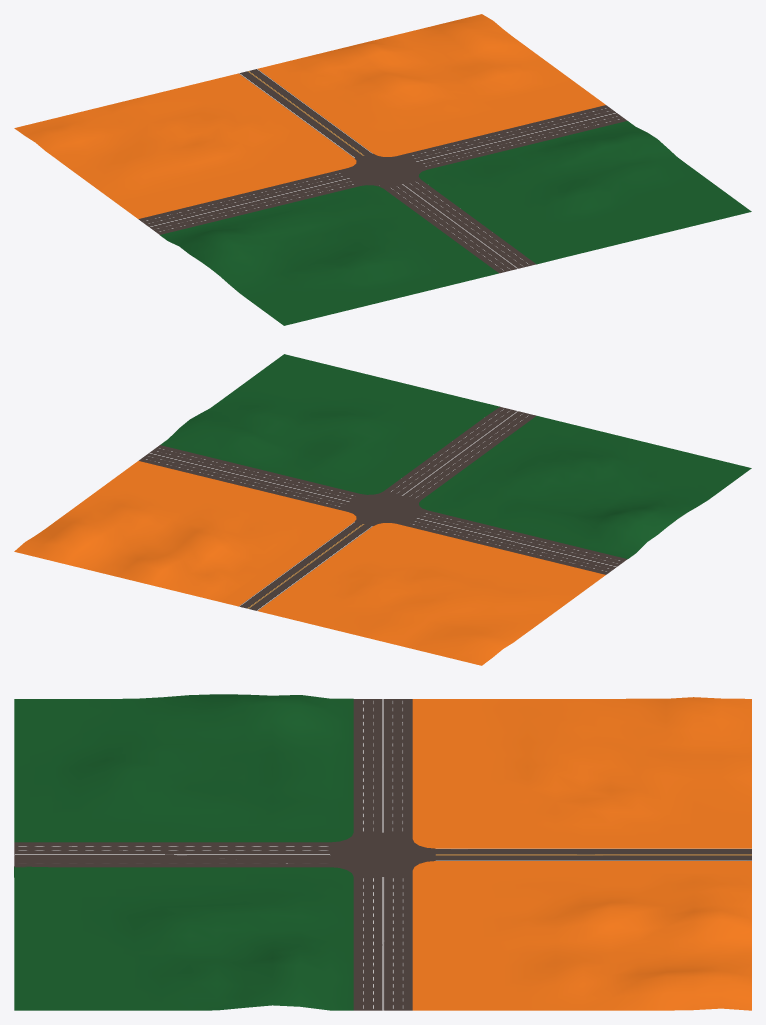
The model's file is TileHighwayDesert1.fbx.
3 renders of one model, top to bottom at view 1: azimuth 30°, elevation 25°; view 2: azimuth 150°, elevation 25°; view 3: azimuth 270°, elevation 25°, orthographic. The views are drawn at different scales.
Visible parts, largest first — view 1: Plane.051, Plane.050, Road.009, Road.008, Road.007, Road.010, Road1.011; view 2: Plane.051, Plane.050, Road.008, Road.009, Road.007, Road.010, Road1.011; view 3: Plane.051, Plane.050, Road.007, Road.008, Road.009, Road.010, Road1.011.
Boxes of the visible parts, x1=… form: Plane.051: x1=14, y1=14, x2=605, y2=218; Plane.050: x1=160, y1=121, x2=751, y2=325; Road.009: x1=138, y1=170, x2=359, y2=234; Road.008: x1=406, y1=105, x2=627, y2=169; Road.007: x1=384, y1=179, x2=536, y2=273; Road.010: x1=239, y1=69, x2=372, y2=157; Road1.011: x1=339, y1=154, x2=426, y2=188; Plane.051: x1=14, y1=461, x2=605, y2=665; Plane.050: x1=160, y1=354, x2=751, y2=558; Road.008: x1=138, y1=445, x2=359, y2=509; Road.009: x1=406, y1=510, x2=627, y2=574; Road.007: x1=384, y1=407, x2=536, y2=500; Road.010: x1=239, y1=521, x2=372, y2=610; Road1.011: x1=339, y1=491, x2=426, y2=525; Plane.051: x1=412, y1=697, x2=751, y2=1010; Plane.050: x1=14, y1=694, x2=353, y2=1010; Road.007: x1=14, y1=842, x2=330, y2=867; Road.008: x1=353, y1=877, x2=412, y2=1010; Road.009: x1=353, y1=699, x2=412, y2=832; Road.010: x1=435, y1=848, x2=751, y2=860; Road1.011: x1=330, y1=832, x2=435, y2=876.
Size of the model in its own units: 20020 by 543 by 20010.
